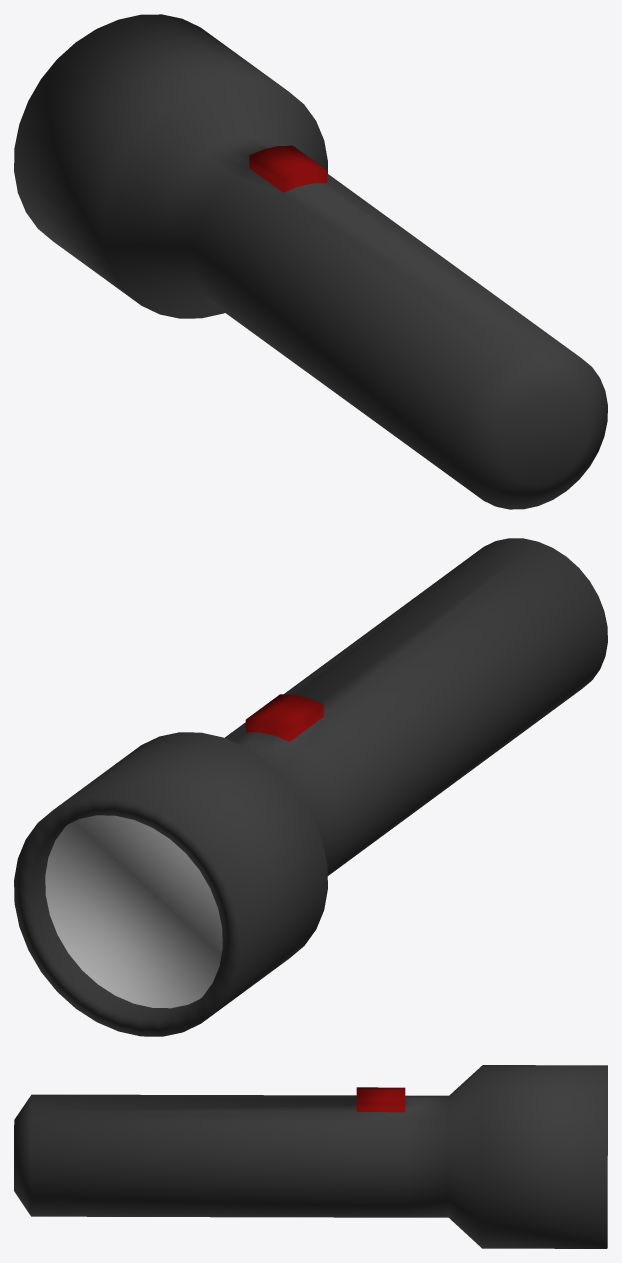
The model's file is flashlight.glb.
The picture shows the model from 3 angles, top to bottom: view 1: azimuth 30°, elevation 25°; view 2: azimuth 150°, elevation 25°; view 3: azimuth 270°, elevation 25°; orthographic projection. The views are drawn at different scales.
Visible parts, largest first — view 1: Цилиндр; view 2: Цилиндр; view 3: Цилиндр.
Boxes of the visible parts, box(x1,y1,x2,y2) form: Цилиндр: box(14, 14, 607, 509); Цилиндр: box(14, 538, 607, 1036); Цилиндр: box(14, 1065, 607, 1248).
Bounding box in the file's own units: 1.38 × 1.36 × 4.42.
